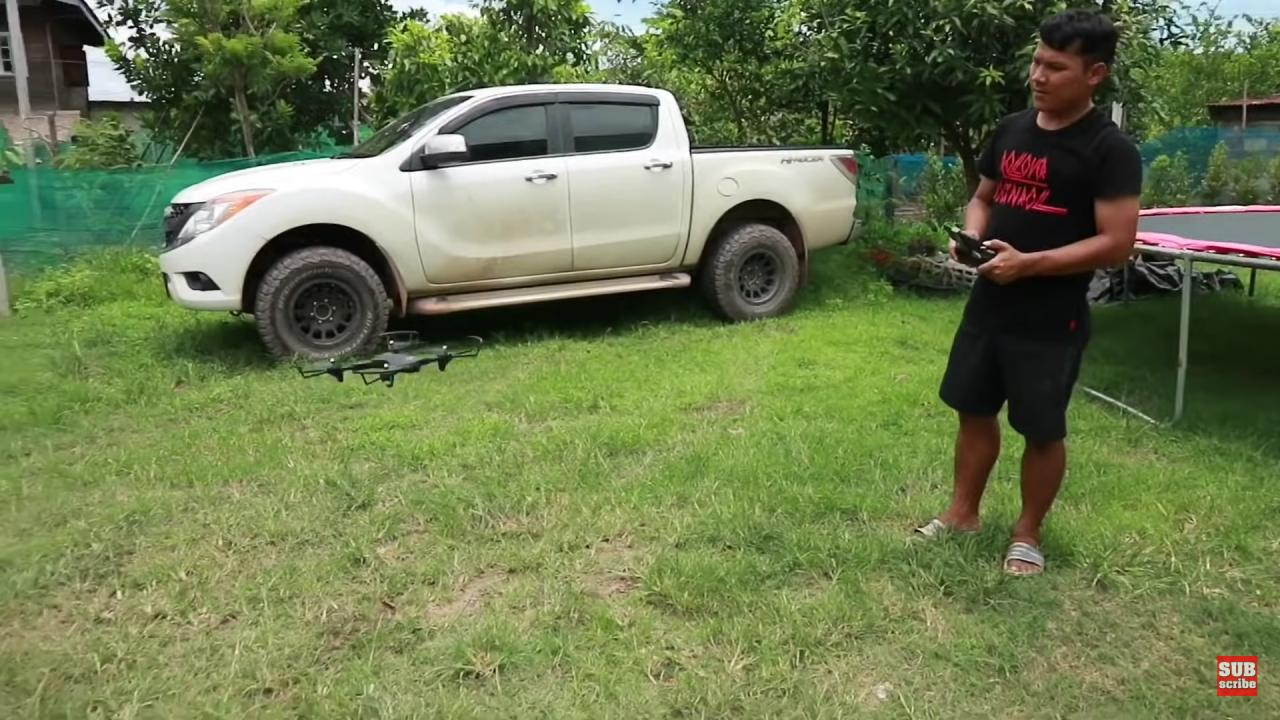Drone: (284, 320, 493, 397)
